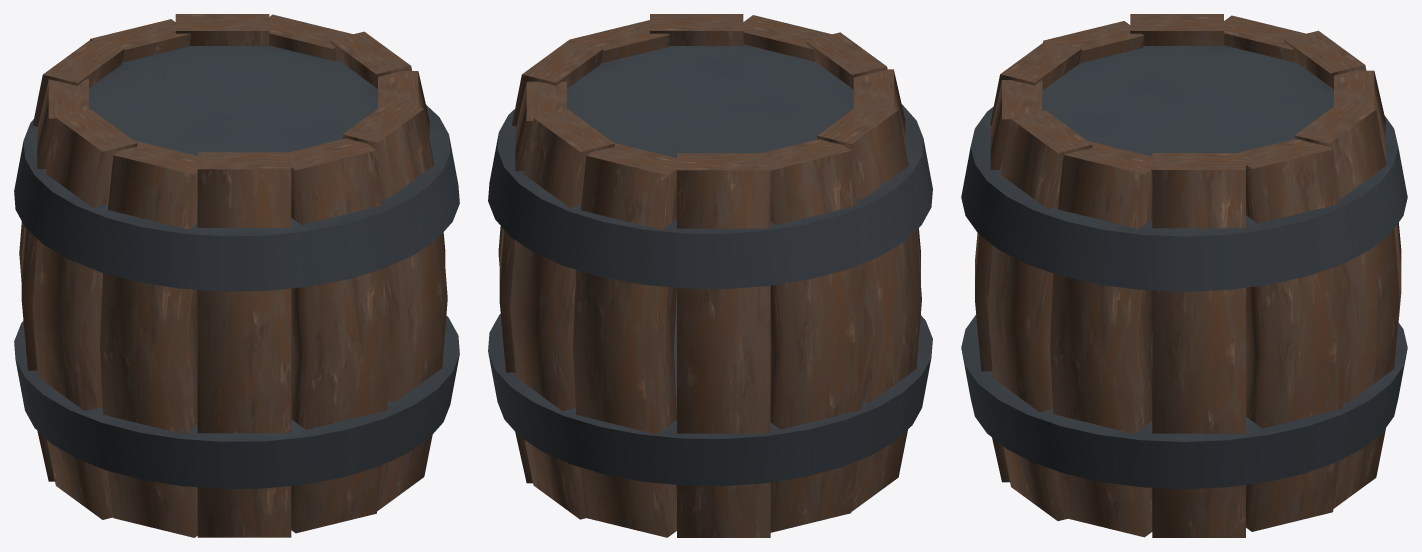
The model's file is Tropics Barrel.fbx.
The picture shows the model from 3 angles, left to right: view 1: azimuth 30°, elevation 25°; view 2: azimuth 150°, elevation 25°; view 3: azimuth 270°, elevation 25°; orthographic projection.
Parts seen in each view (by area): view 1: Barrel_LOD0; view 2: Barrel_LOD0; view 3: Barrel_LOD0.
Boxes of the visible parts, x1=… form: Barrel_LOD0: x1=14, y1=14, x2=459, y2=537; Barrel_LOD0: x1=488, y1=14, x2=932, y2=537; Barrel_LOD0: x1=961, y1=14, x2=1407, y2=537.
Size of what is drawn, in the model's own units: 494 by 449 by 494.
